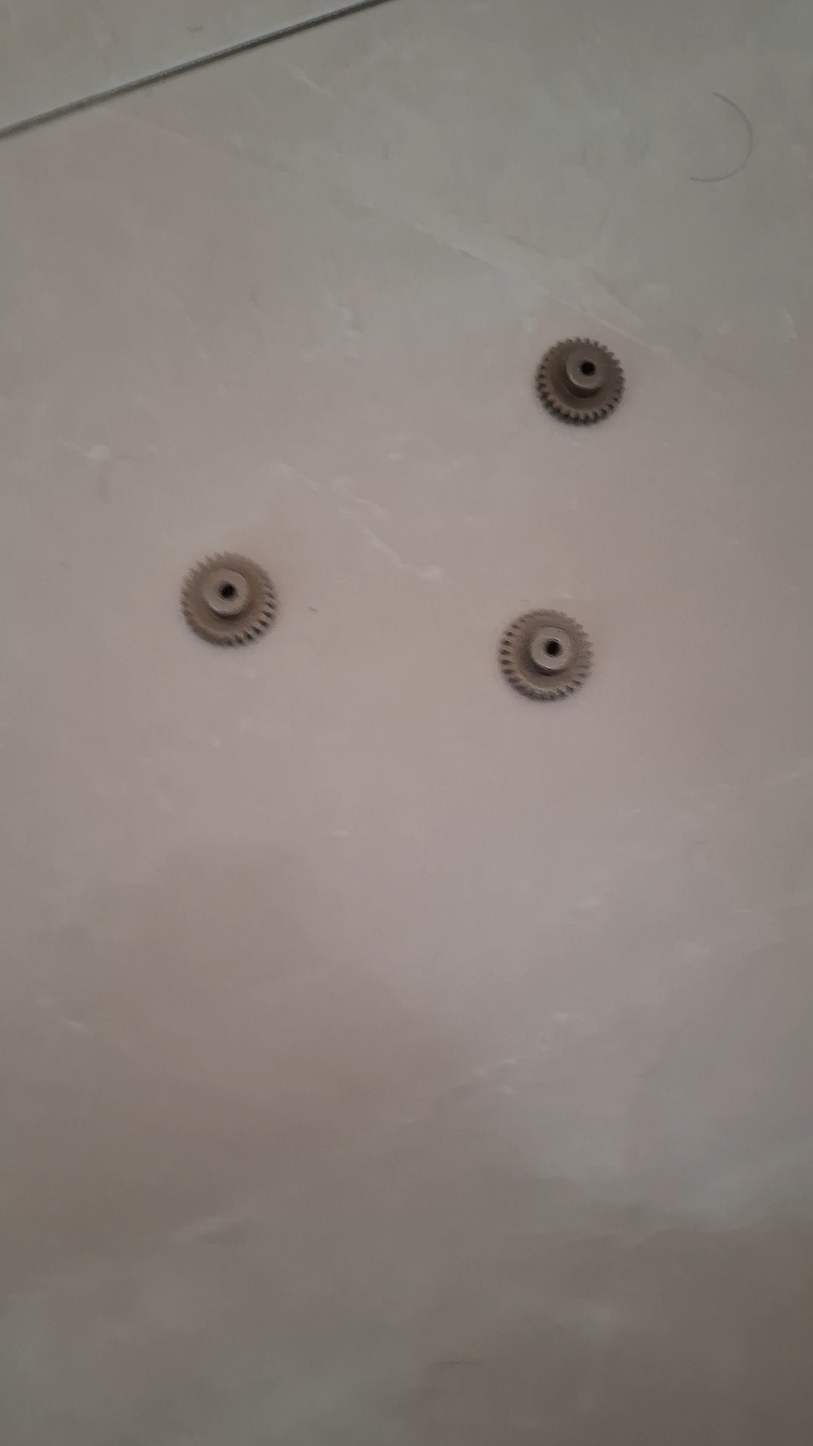spur gear: (181, 553, 277, 645), (499, 610, 591, 700), (536, 339, 624, 423)
